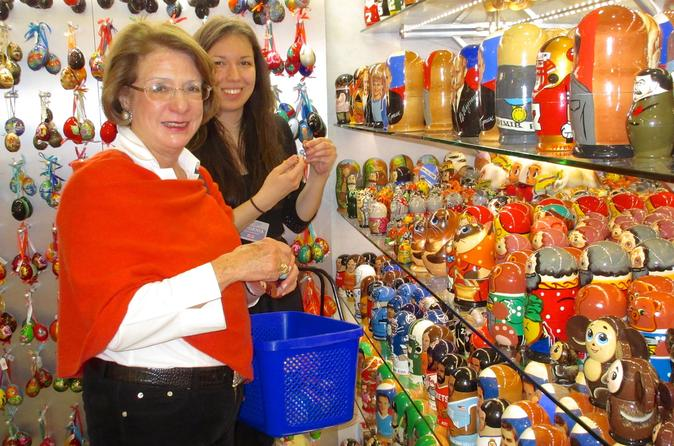Age_20_30: (195, 20, 262, 110)
Age_above_50: (120, 21, 218, 151)
E_White: (120, 21, 218, 151), (195, 20, 262, 110)
Emotion_Happy: (120, 21, 218, 151), (195, 20, 262, 110)
G_ Female: (120, 21, 218, 151), (195, 20, 262, 110)
